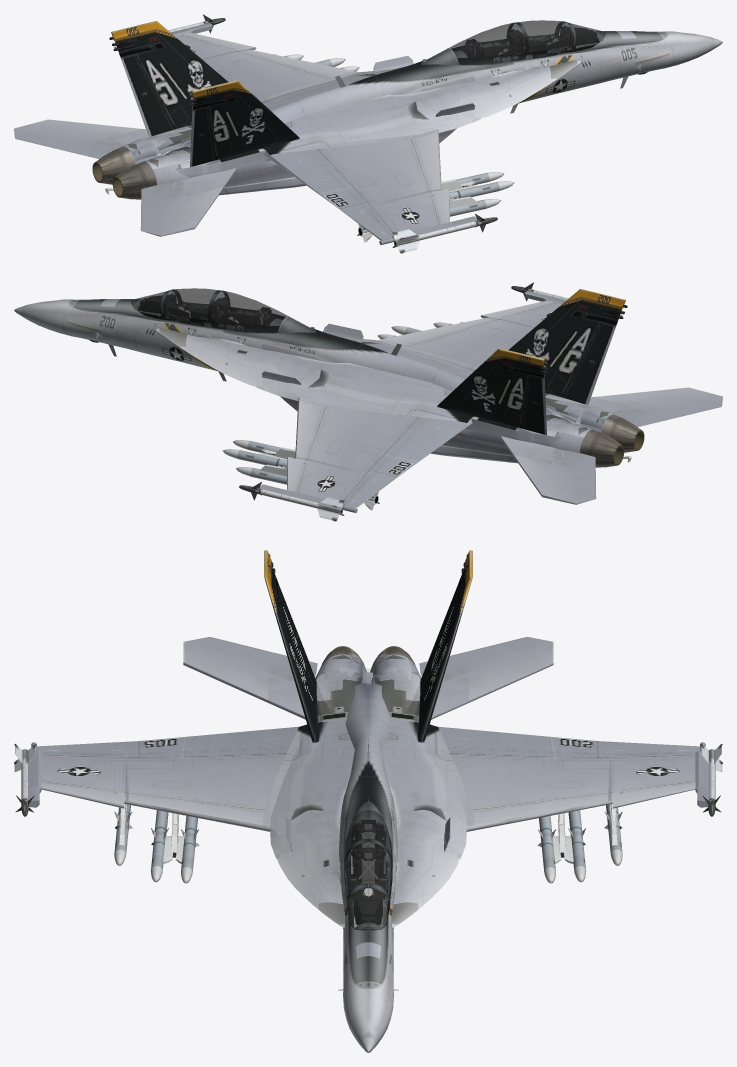
File: jet.glb
3 views of the same model, one above another, from view 1: azimuth 30°, elevation 25°; view 2: azimuth 150°, elevation 25°; view 3: azimuth 270°, elevation 25° (orthographic). The views are drawn at different scales.
Visible parts, largest first — view 1: FA18_2; view 2: FA18_2; view 3: FA18_2.
Boxes of the visible parts, <box> form: FA18_2: <box>14,14,722,253</box>; FA18_2: <box>14,282,722,521</box>; FA18_2: <box>14,550,722,1052</box>.
Bounding box in the file's own units: 18.07 × 3.86 × 13.63.
31 materials, 9 textured.
